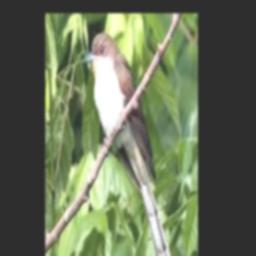Cuckoo: (84, 32, 175, 256)
